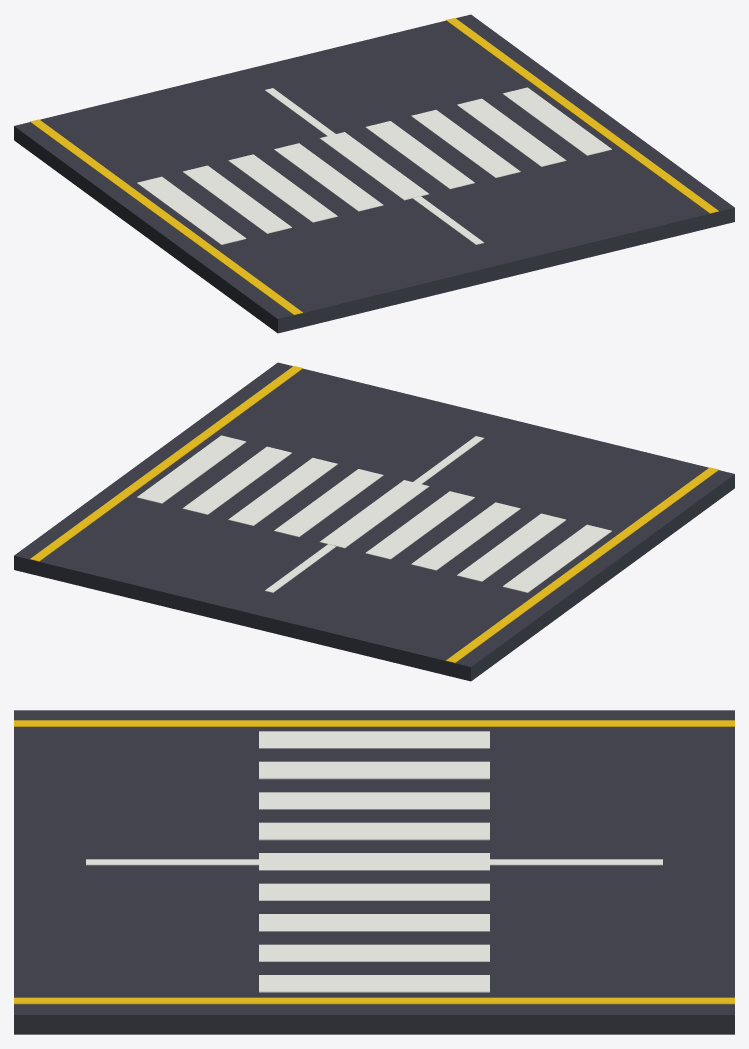
File: env_crosswalk.fbx
3 views of the same model, one above another, from view 1: azimuth 30°, elevation 25°; view 2: azimuth 150°, elevation 25°; view 3: azimuth 270°, elevation 25° (orthographic). The views are drawn at different scales.
Parts seen in each view (by area): view 1: env_crosswalk_geo; view 2: env_crosswalk_geo; view 3: env_crosswalk_geo.
Part boxes in pixels (bbox=[...]): env_crosswalk_geo: bbox=[14, 14, 734, 333]; env_crosswalk_geo: bbox=[14, 362, 734, 681]; env_crosswalk_geo: bbox=[14, 710, 734, 1034].
Size of the model in its own units: 10 by 0.318 by 10.
